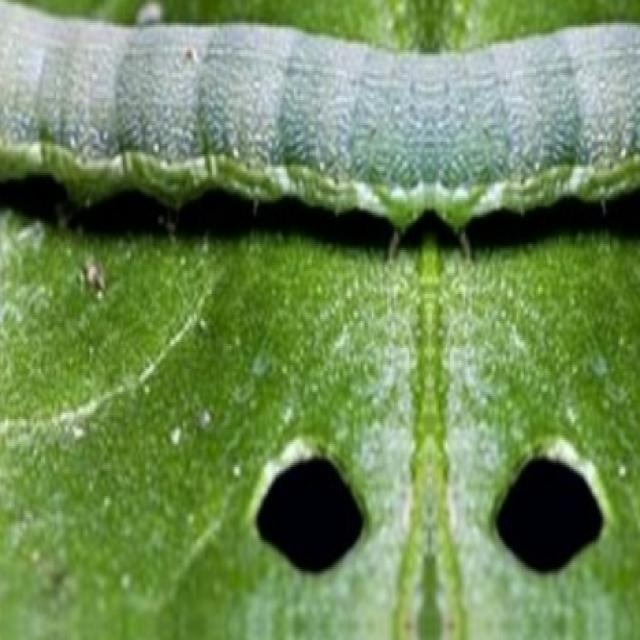armyworm: (0, 0, 639, 242)
